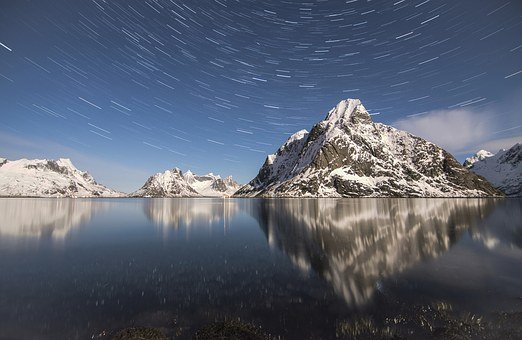lake: (7, 195, 522, 332)
mountain: (250, 98, 516, 203)
sky: (9, 3, 517, 140)
